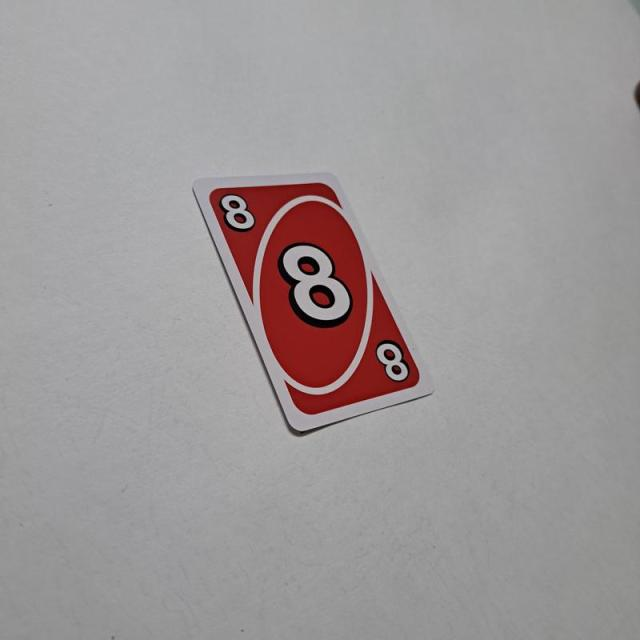Number_8: (216, 191, 258, 236)
Red_Card: (203, 178, 423, 418)
